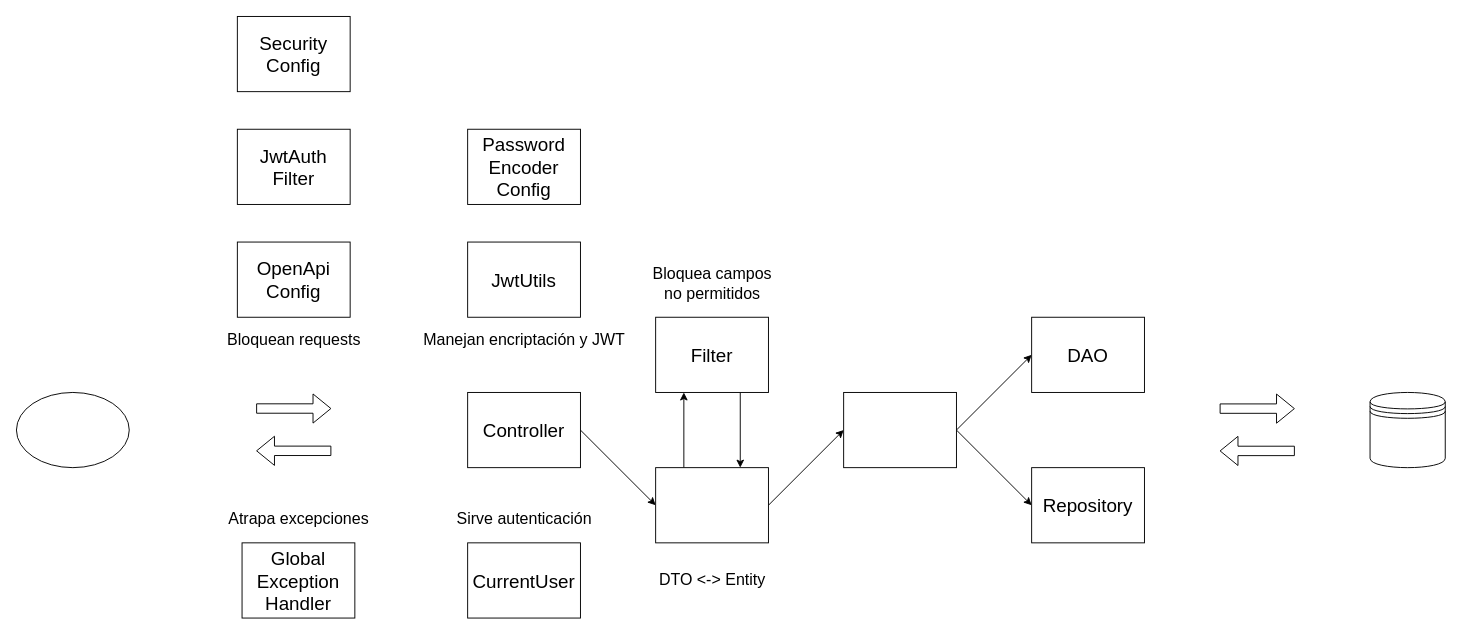
Some shapes in this 1462 by 635 pixel diagram are drawn without their labels. Here are the shapes that lost their labels. From the top down, the centre of each, then its label:
pixel 72 430: Cliente
pixel 899 430: Service
pixel 1407 430: MariaDB
pixel 711 505: Mapper
